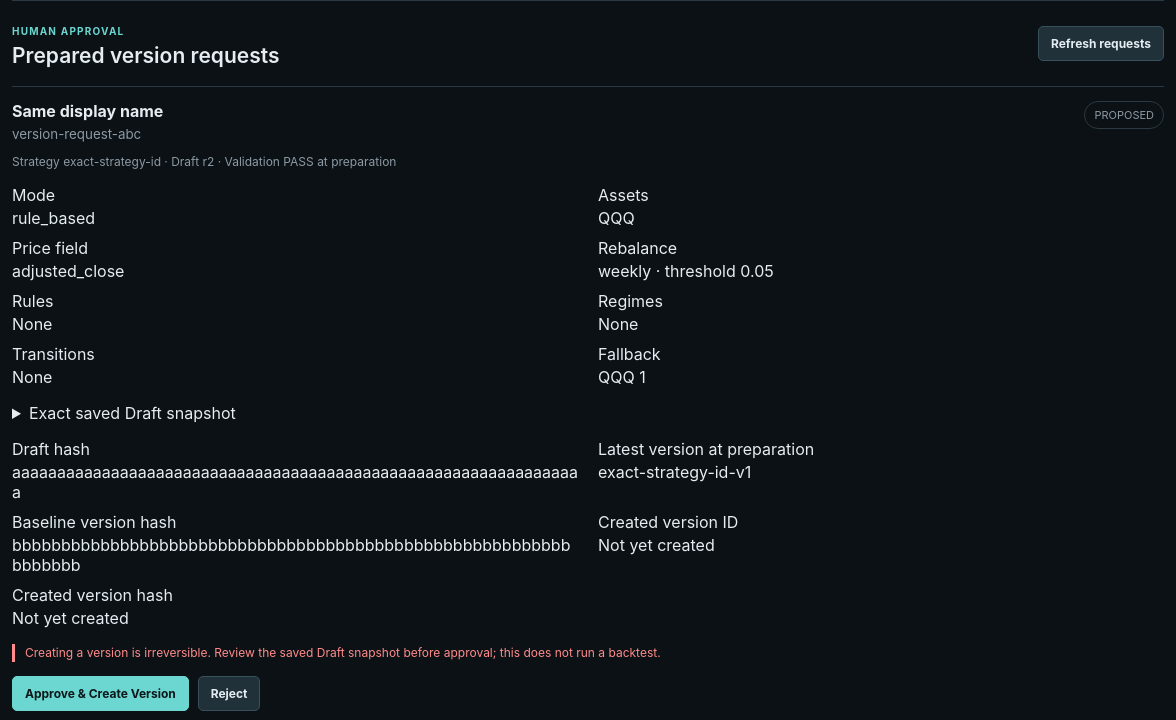
Test: controlled version requests › refreshes the request and version history after one explicit approval
The width and height of the screenshot is (1176, 720).
What coordinates should you click on to do the following:
click the button "Approve & Create Version"
I would click on:
 (100, 694)
Its box is [12,676,189,711].
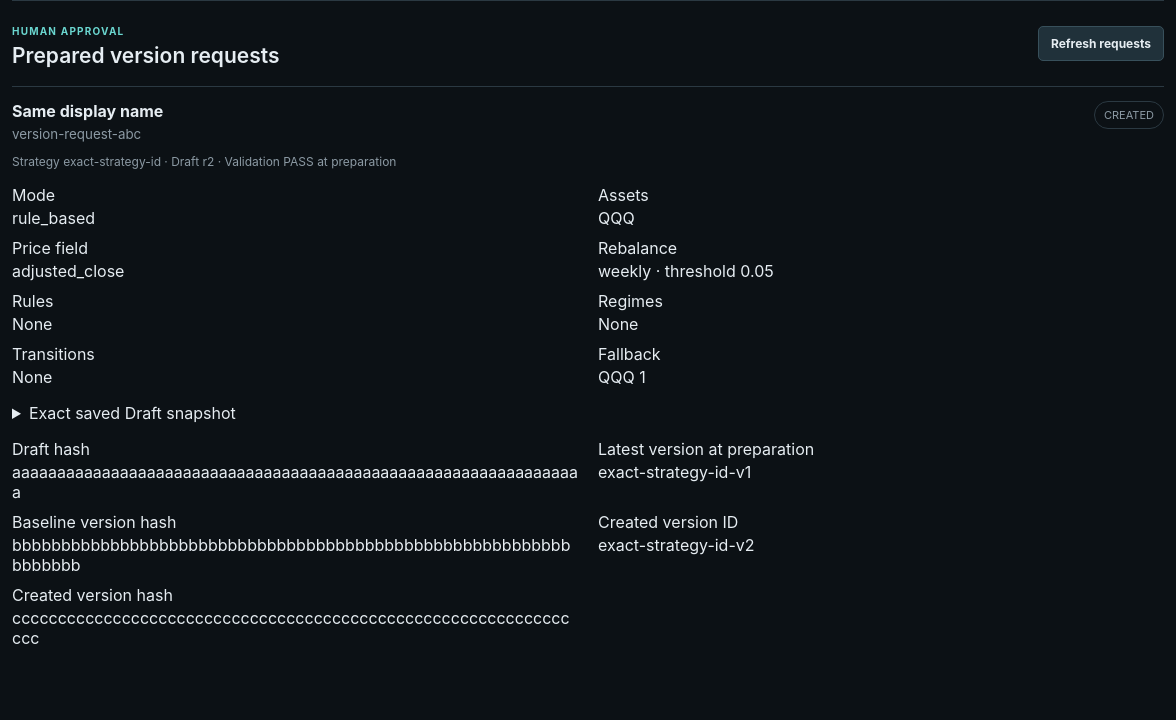
Result: the text "exact-strategy-id-v2" is shown at [598,535,754,555]
Result: the button "Approve & Create Version" is gone
